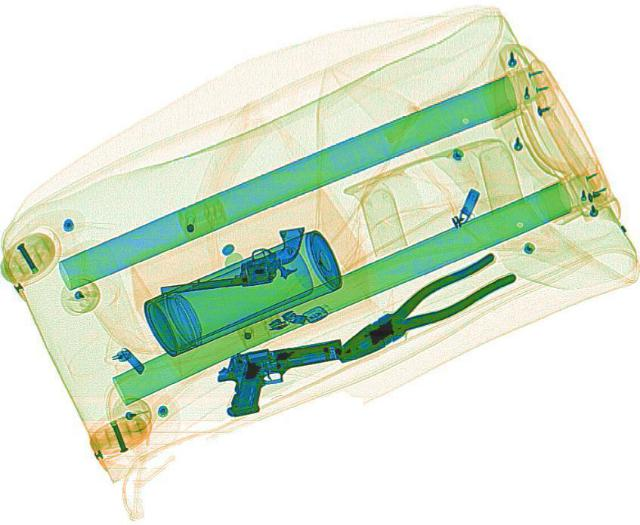Gun: (209, 337, 355, 416), (149, 226, 315, 295)
Pliers: (320, 248, 518, 373)
